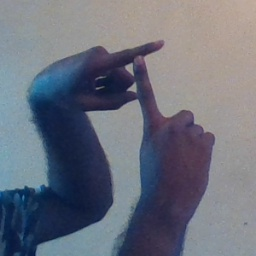T: (85, 32, 192, 138)
